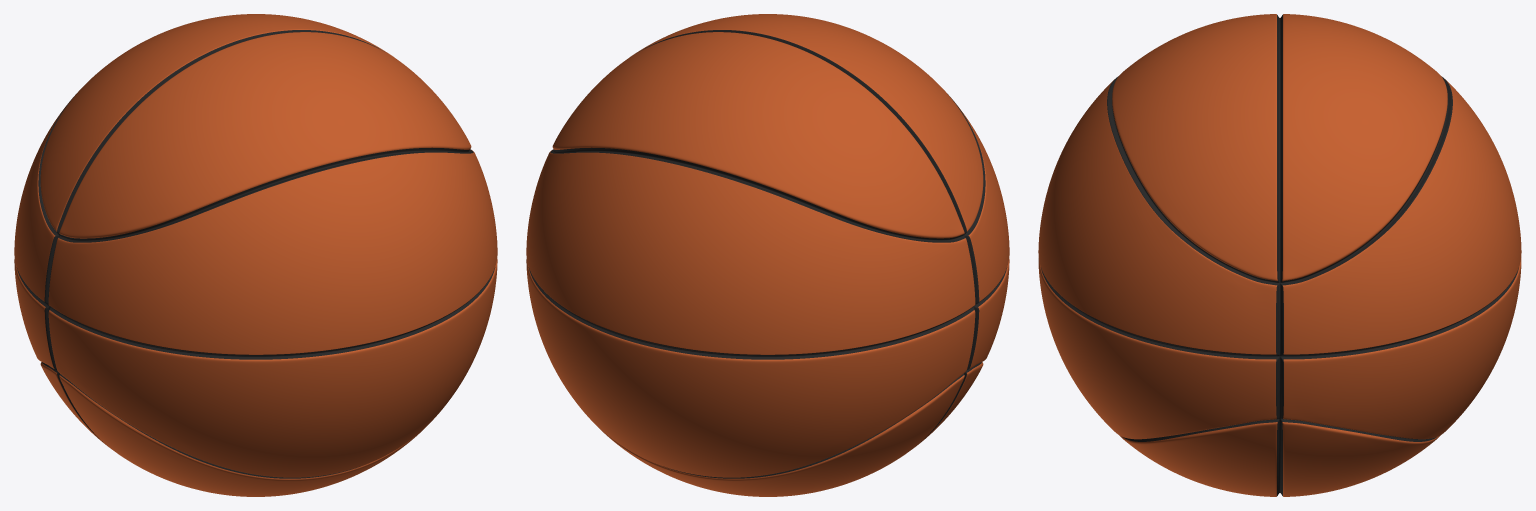
Rendered from Basquete.glb.
3 renders of one model, left to right at view 1: azimuth 30°, elevation 25°; view 2: azimuth 150°, elevation 25°; view 3: azimuth 270°, elevation 25°, orthographic.
Parts seen in each view (by area): view 1: basquete; view 2: basquete; view 3: basquete.
Part boxes in pixels (bbox=[...]): basquete: bbox=[14, 14, 497, 496]; basquete: bbox=[526, 14, 1009, 496]; basquete: bbox=[1038, 14, 1521, 496].
Size of the model in its own units: 0.596 by 0.5955 by 0.5957.
